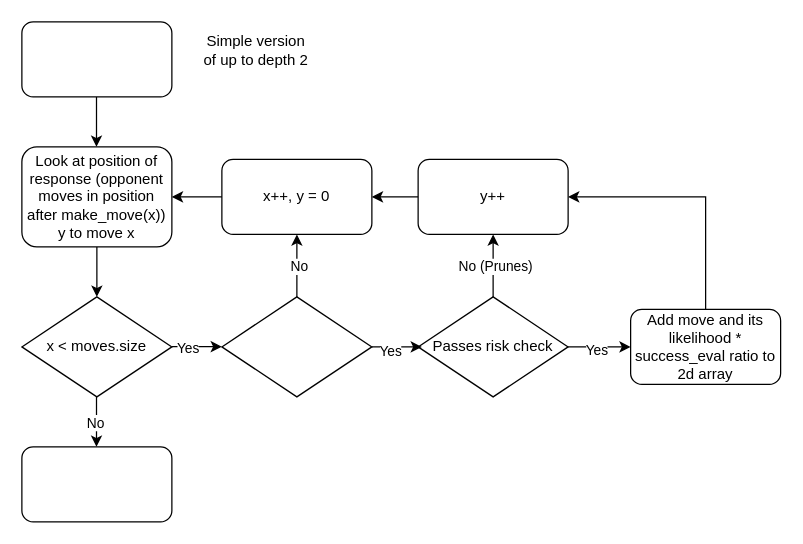
This 803x544 diagram has some shape labels left out. Here are the shapes that lost their labels. From the top down, the box of each, then its label:
(21, 21, 172, 97): Get all moves
(221, 296, 372, 397): y < responses.size
(21, 446, 172, 522): Play move with highest ratio
